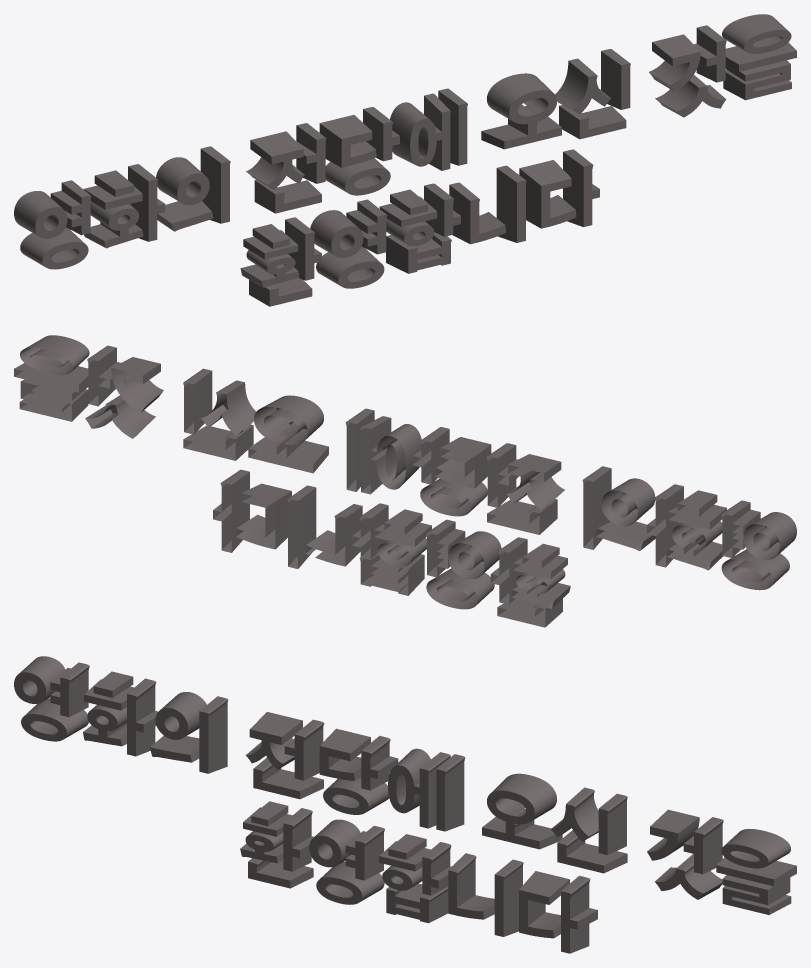
The picture shows the model from 3 angles, top to bottom: view 1: azimuth 30°, elevation 25°; view 2: azimuth 150°, elevation 25°; view 3: azimuth 330°, elevation 25°; orthographic projection.
Parts seen in each view (by area): view 1: TextPlus001; view 2: TextPlus001; view 3: TextPlus001.
Part boxes in pixels (x1,y1,x2,y2): TextPlus001: [14, 14, 796, 306]; TextPlus001: [14, 335, 796, 627]; TextPlus001: [14, 656, 796, 953].
Size of the model in its own units: 220 by 43.9 by 9.57.
